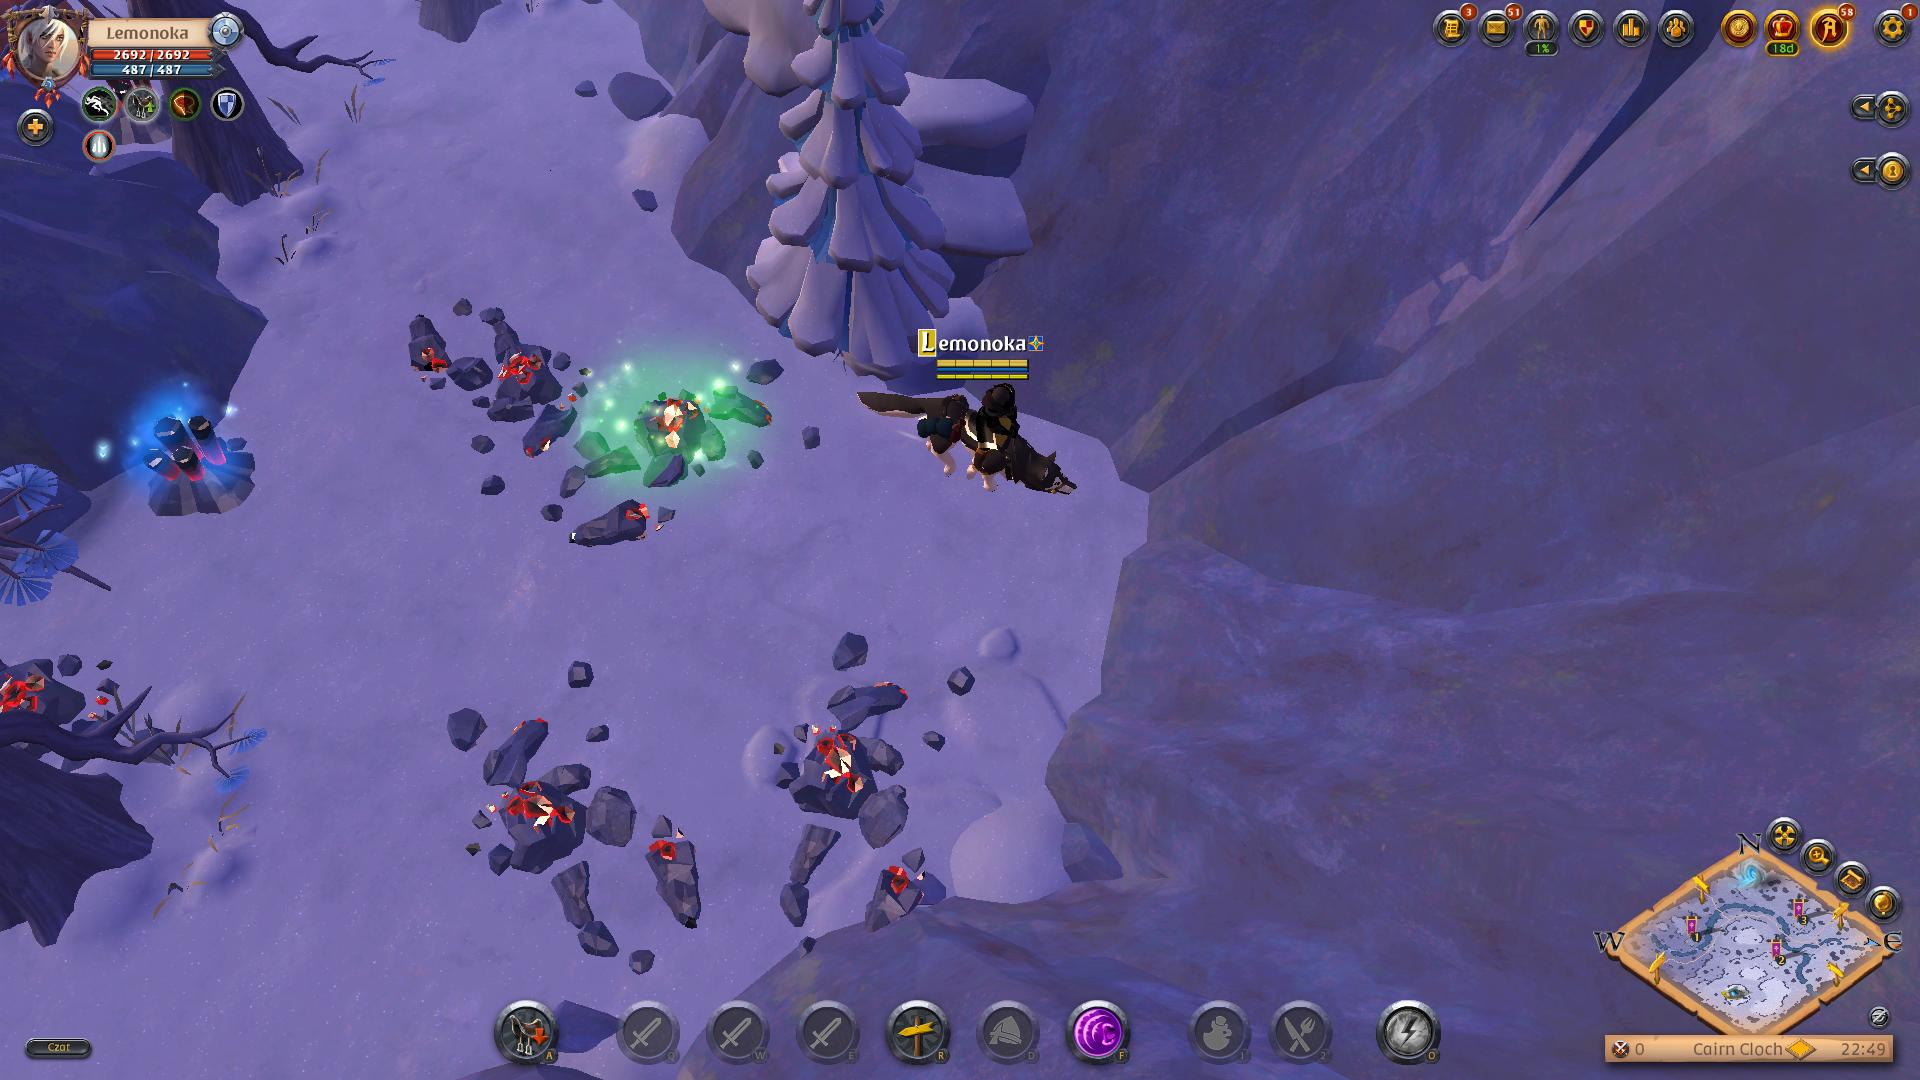ore tier 5: (135, 406, 261, 524)
